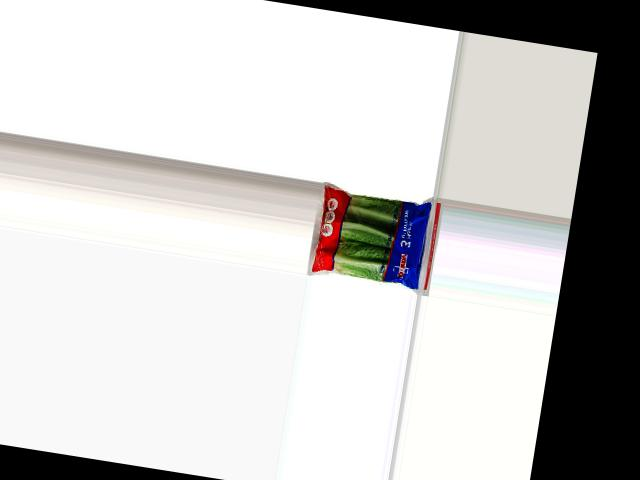lettuce: (306, 183, 434, 291)
